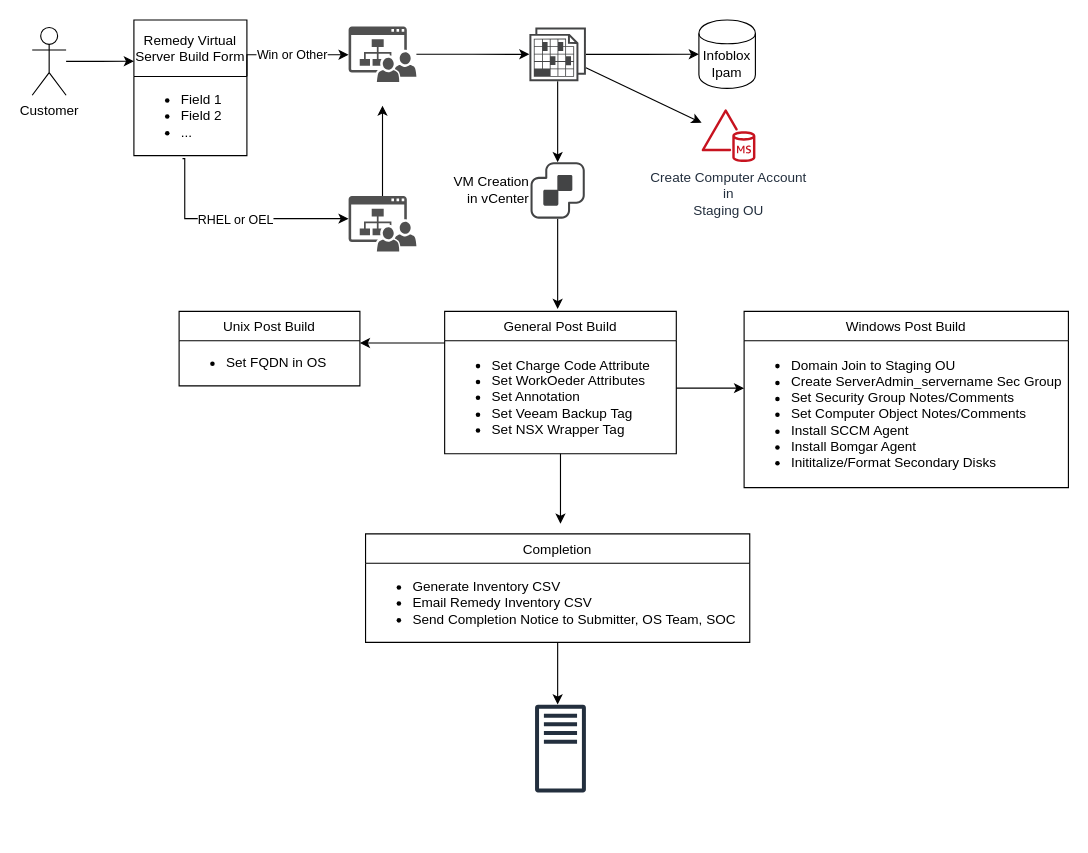
This 1088x853 diagram has some shape labels left out. Each missing label, with the centre of its shape:
Completed MNIT Cloud Virtual Server: (559,748)
Unix Team: (382,223)
Virt Ops Team: (382,53)
vRA AllinOne Blueprint: (557,54)
